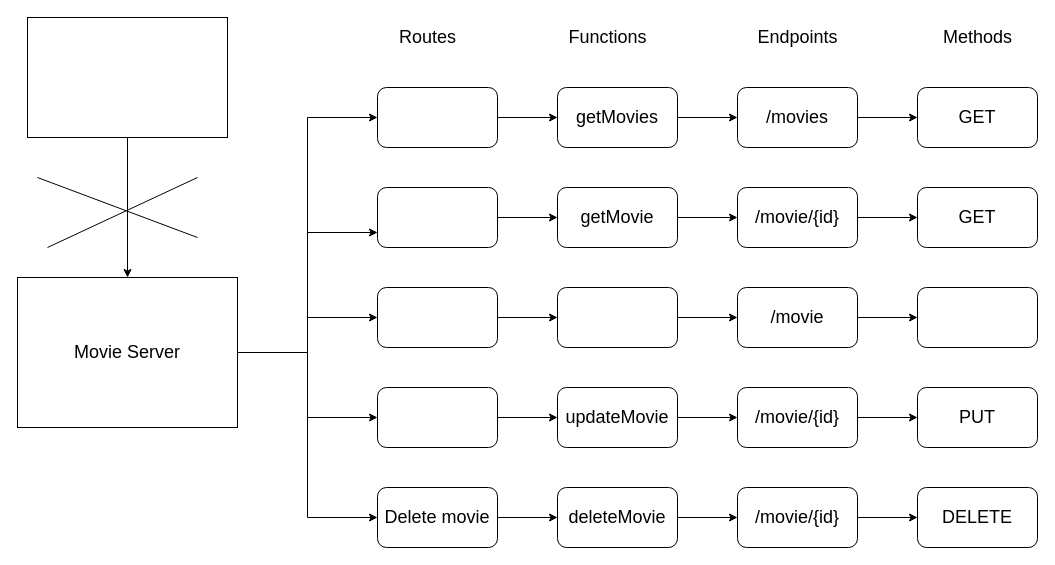
Some shapes in this 1055 by 565 pixel diagram are drawn without their labels. Each missing label, with the centre of its shape:
Create movie: (x=437, y=317)
createMovie: (x=617, y=317)
Data Base: (x=127, y=77)
Get All: (x=437, y=117)
Get by ID: (x=437, y=217)
POST: (x=977, y=317)
Update movie: (x=437, y=417)
